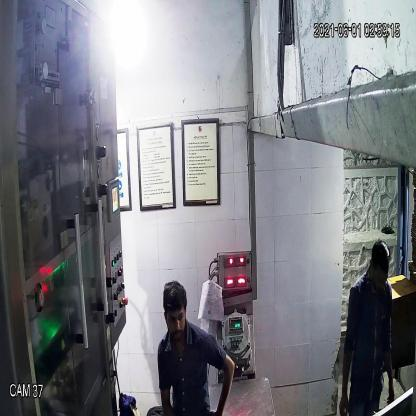no_goggles: (162, 307, 188, 330)
